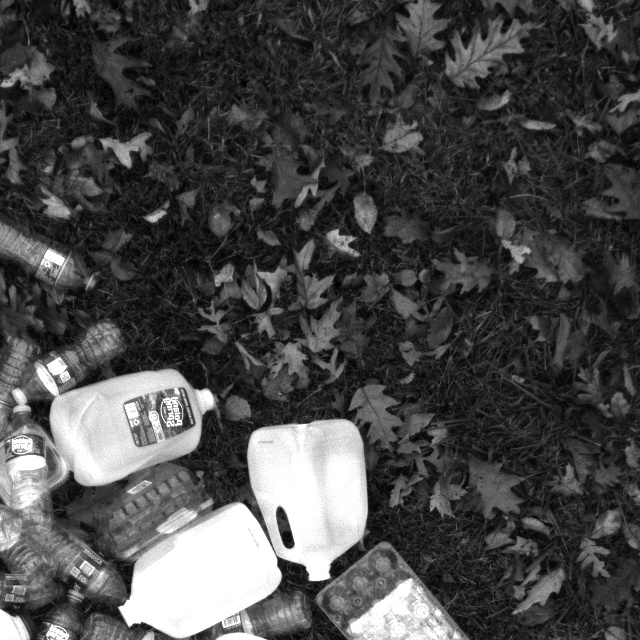bottle: (8, 510, 141, 611), (1, 327, 130, 424), (0, 204, 101, 297), (190, 586, 314, 640), (0, 335, 53, 460), (4, 586, 91, 640), (0, 566, 65, 613)
can: (107, 496, 288, 640), (40, 359, 231, 487), (241, 406, 375, 586), (119, 497, 287, 640)
container: (311, 547, 489, 640), (75, 461, 214, 566)
